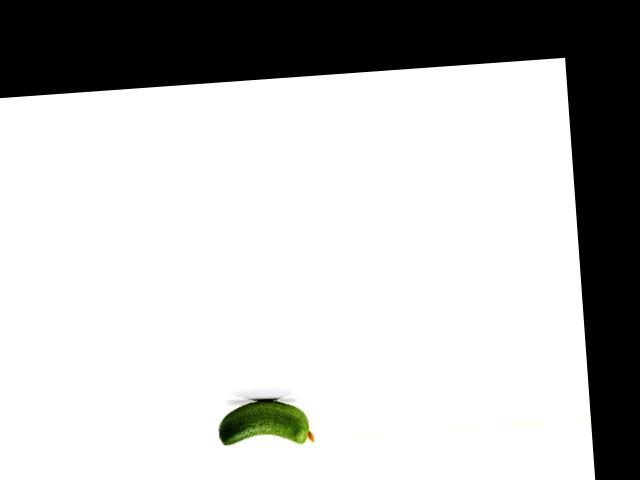cucumber: (215, 396, 314, 449)
